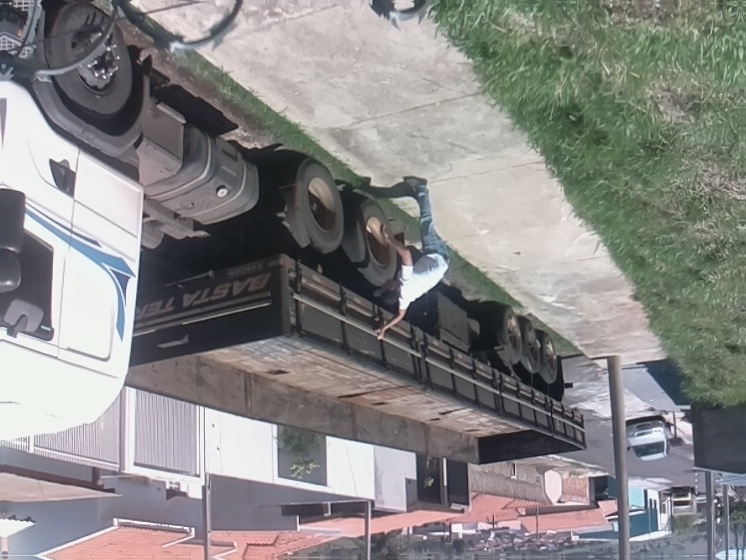person: (373, 175, 450, 341)
